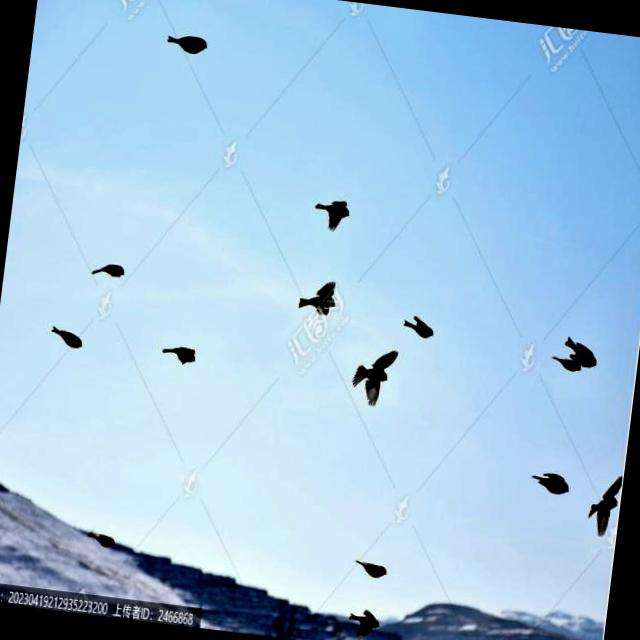bird: (348, 344, 400, 410), (582, 470, 624, 538), (294, 270, 342, 318), (42, 312, 88, 360), (338, 597, 384, 640), (161, 26, 215, 62), (306, 190, 352, 232), (156, 336, 205, 374), (530, 462, 574, 502), (352, 544, 391, 587), (399, 310, 442, 343), (568, 333, 608, 365), (549, 352, 587, 384), (91, 254, 128, 284)
